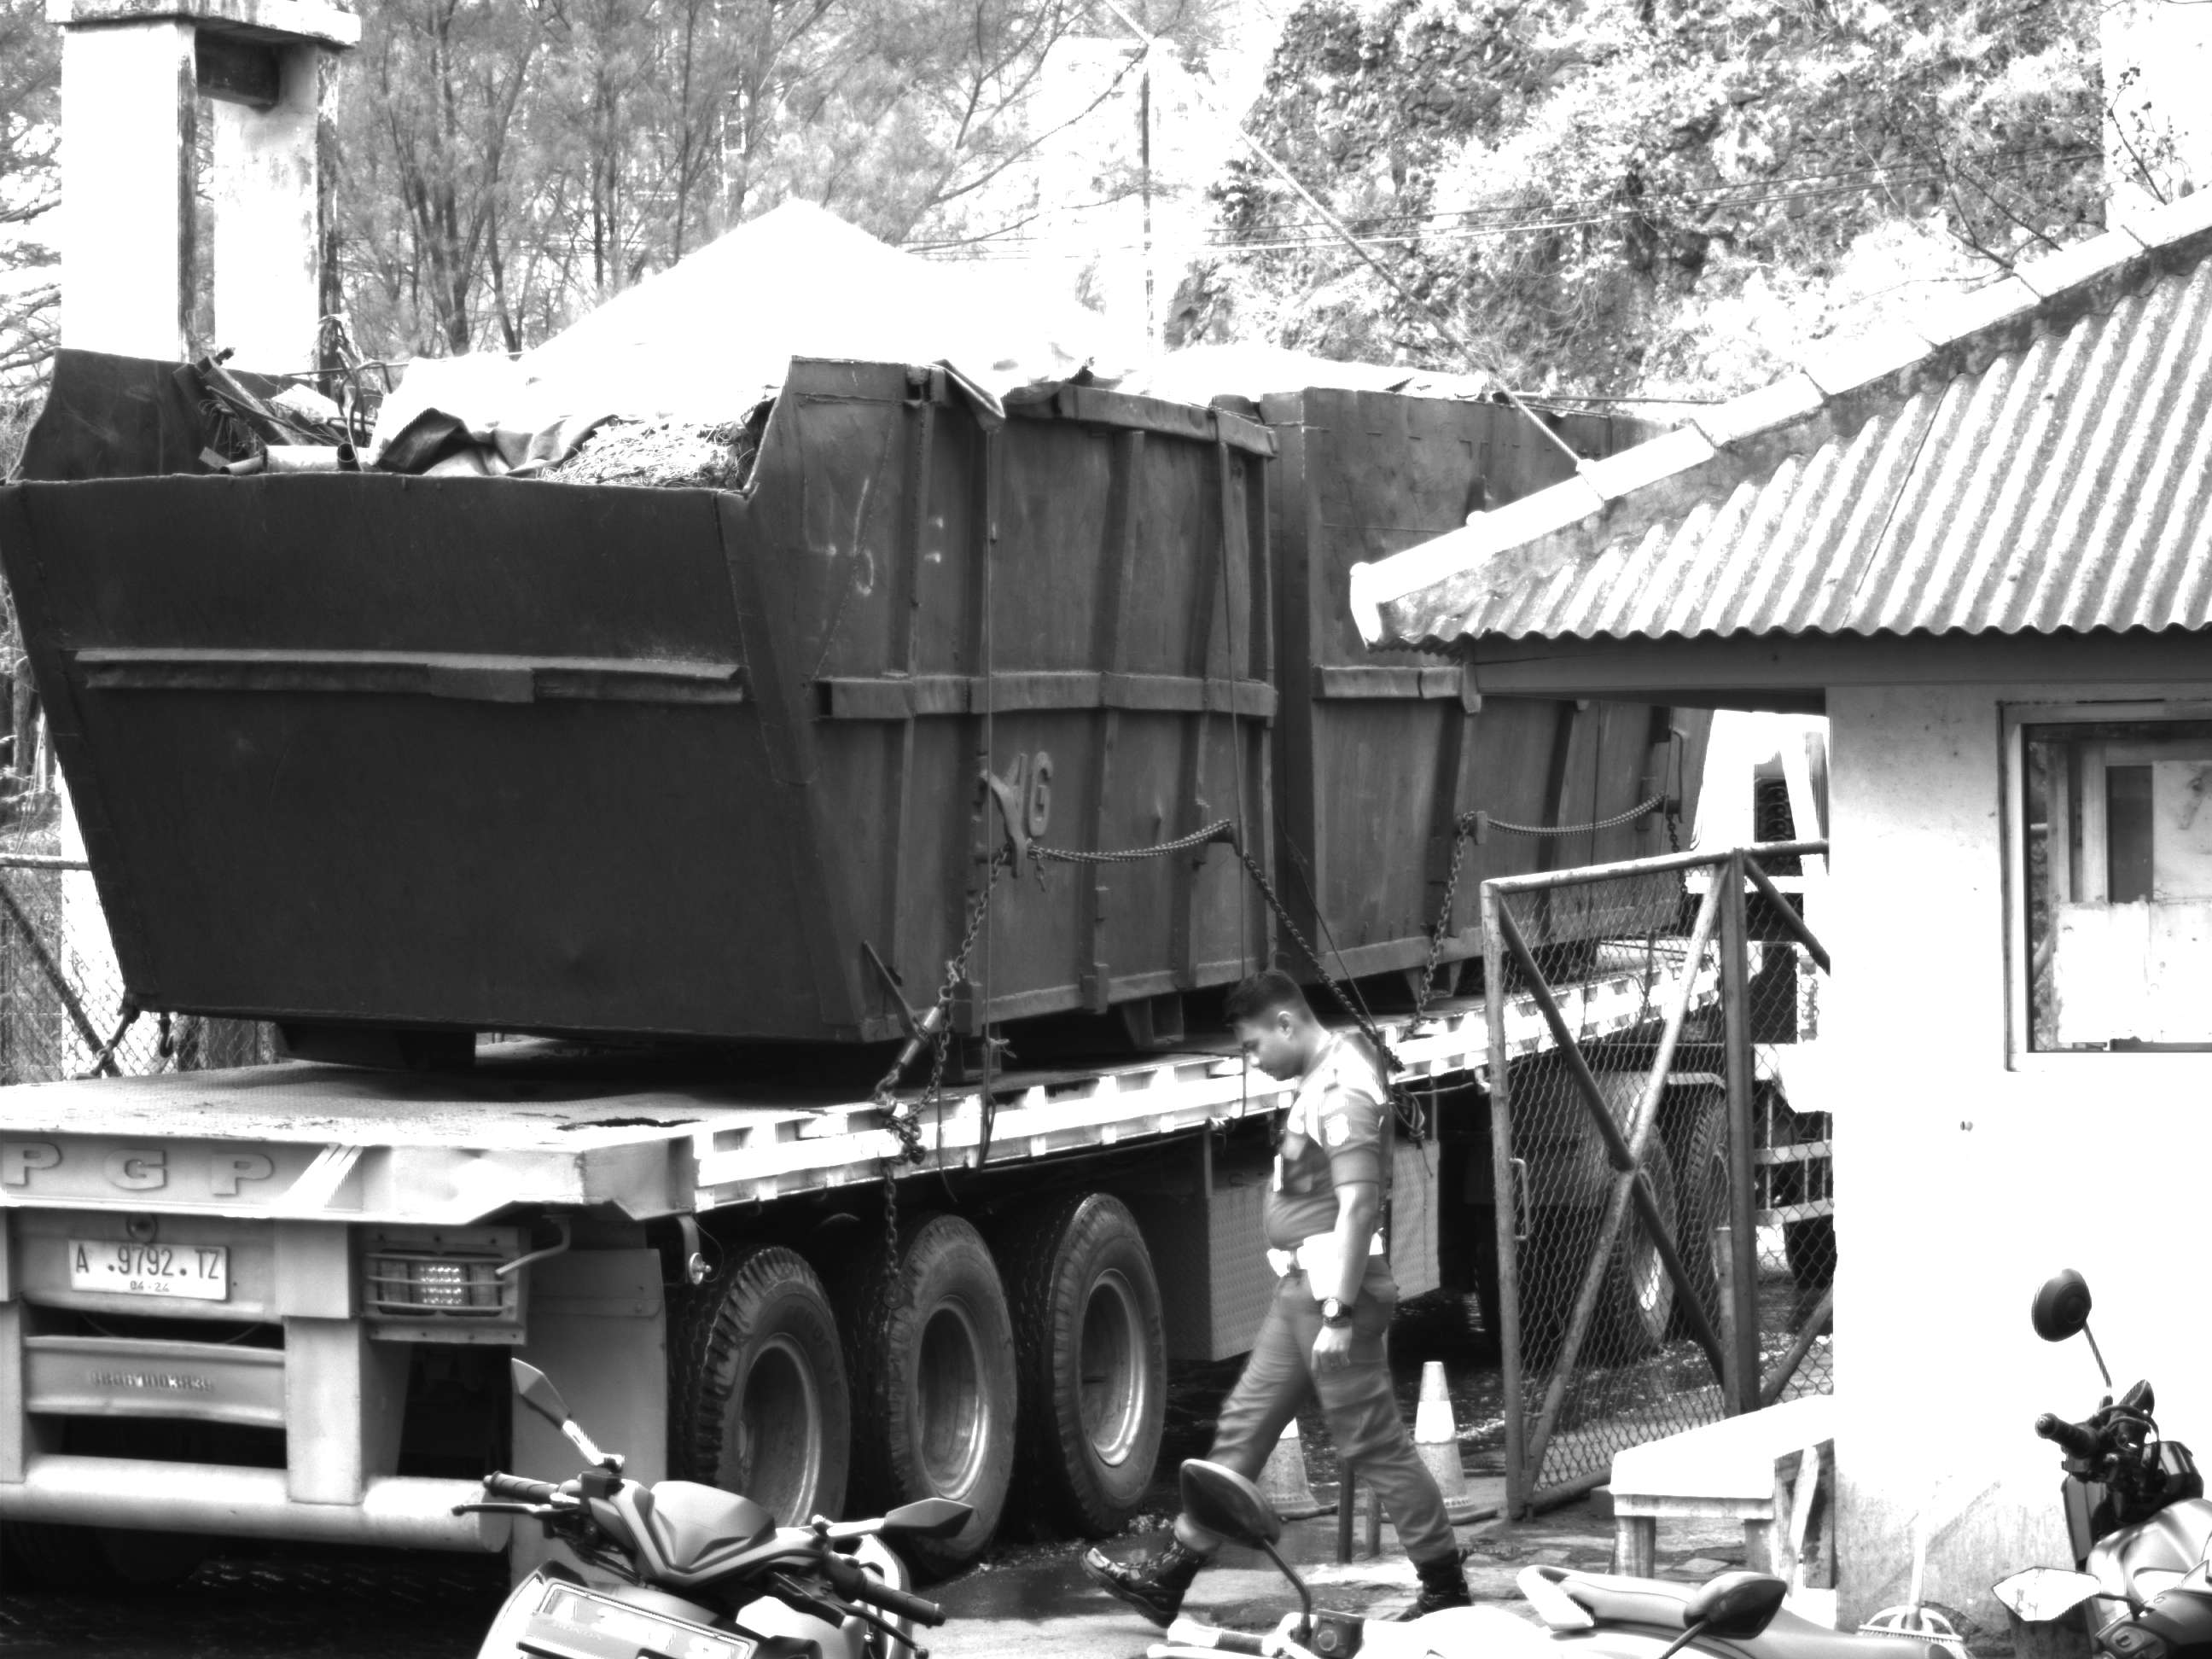day_truck_rear: (3, 1049, 898, 1627)
plate: (67, 1236, 235, 1296)
